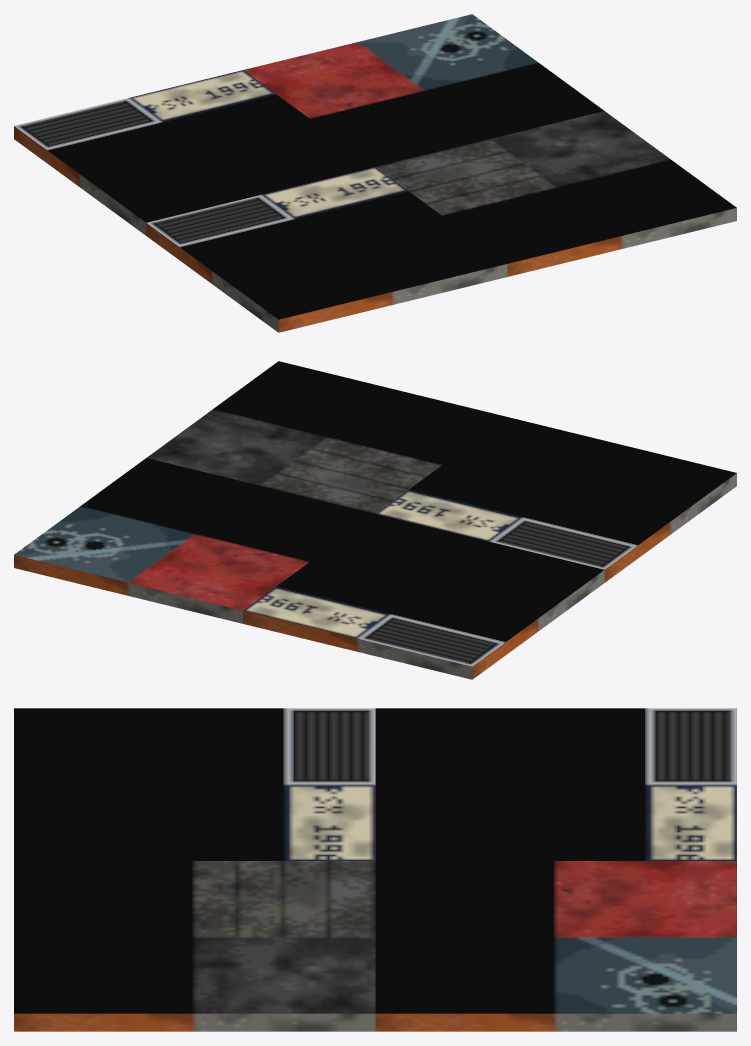
The model's file is SM_edge_corner_in.fbx.
3 renders of one model, top to bottom at view 1: azimuth 30°, elevation 25°; view 2: azimuth 150°, elevation 25°; view 3: azimuth 270°, elevation 25°, orthographic. The views are drawn at different scales.
Visible parts, largest first — view 1: edge_corner_in; view 2: edge_corner_in; view 3: edge_corner_in.
Part boxes in pixels (x1,y1,x2,y2): edge_corner_in: (14, 14, 736, 332); edge_corner_in: (14, 361, 736, 679); edge_corner_in: (14, 708, 736, 1031).
Size of the model in its own units: 4 by 0.11 by 4.
